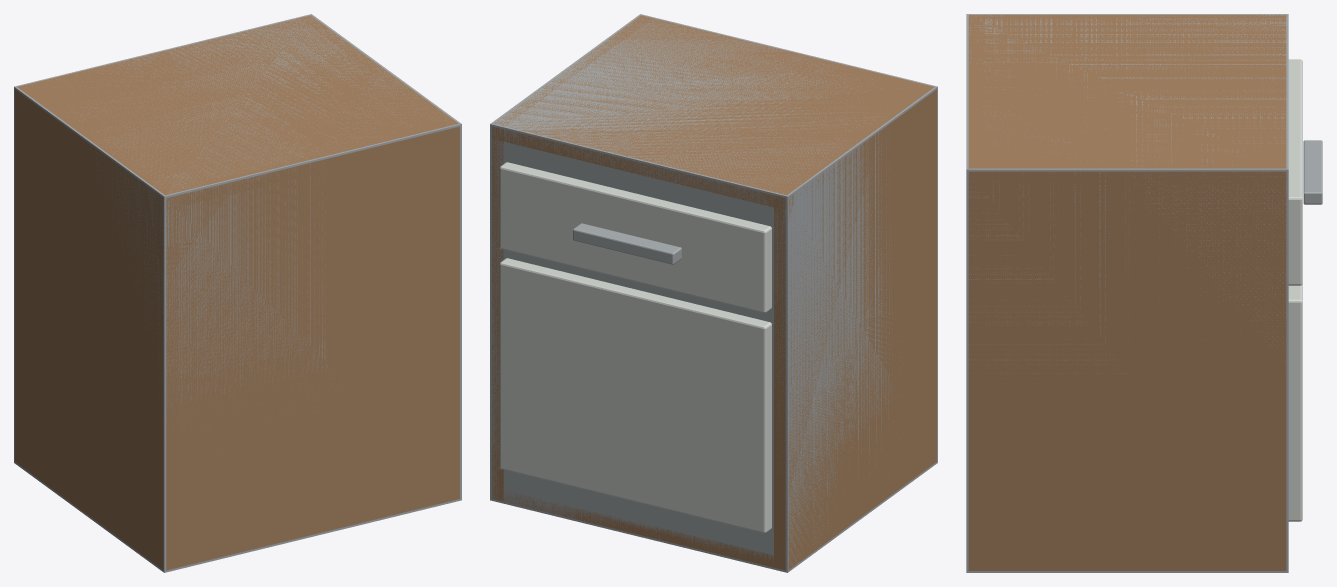
File: nightstand.glb
The picture shows the model from 3 angles, left to right: view 1: azimuth 30°, elevation 25°; view 2: azimuth 150°, elevation 25°; view 3: azimuth 270°, elevation 25°; orthographic projection. The views are drawn at different scales.
Parts seen in each view (by area): view 1: propkit_nightstand_001_back, propkit_nightstand_002_side_-1, propkit_nightstand_005_top, propkit_nightstand_COL, propkit_nightstand_003_side_1; view 2: propkit_nightstand_COL, propkit_nightstand_006_door, propkit_nightstand_002_side_-1, propkit_nightstand_005_top, propkit_nightstand_007_drawer, propkit_nightstand_003_side_1, propkit_nightstand_004_base, propkit_nightstand_008_pull, propkit_nightstand_001_back; view 3: propkit_nightstand_003_side_1, propkit_nightstand_005_top, propkit_nightstand_COL, propkit_nightstand_001_back, propkit_nightstand_006_door, propkit_nightstand_007_drawer, propkit_nightstand_002_side_-1, propkit_nightstand_008_pull.
Part boxes in pixels (box(x1,y1,x2,y2)): propkit_nightstand_001_back: box(156, 119, 459, 570); propkit_nightstand_002_side_-1: box(15, 84, 177, 569); propkit_nightstand_005_top: box(20, 15, 457, 209); propkit_nightstand_COL: box(14, 14, 461, 572); propkit_nightstand_003_side_1: box(299, 15, 450, 125); propkit_nightstand_COL: box(490, 14, 937, 572); propkit_nightstand_006_door: box(499, 258, 771, 533); propkit_nightstand_002_side_-1: box(774, 84, 936, 570); propkit_nightstand_005_top: box(492, 16, 927, 209); propkit_nightstand_007_drawer: box(499, 162, 771, 312); propkit_nightstand_003_side_1: box(492, 16, 650, 501); propkit_nightstand_004_base: box(503, 450, 935, 567); propkit_nightstand_008_pull: box(573, 223, 681, 264); propkit_nightstand_001_back: box(635, 15, 927, 91); propkit_nightstand_003_side_1: box(968, 162, 1286, 570); propkit_nightstand_005_top: box(968, 15, 1286, 184); propkit_nightstand_COL: box(966, 14, 1288, 572); propkit_nightstand_001_back: box(968, 15, 983, 525); propkit_nightstand_006_door: box(1288, 284, 1302, 521); propkit_nightstand_007_drawer: box(1288, 59, 1302, 285); propkit_nightstand_002_side_-1: box(968, 15, 1286, 20); propkit_nightstand_008_pull: box(1303, 140, 1322, 204).
Bounding box in the file's own units: 0.48 × 0.58 × 0.4645.
